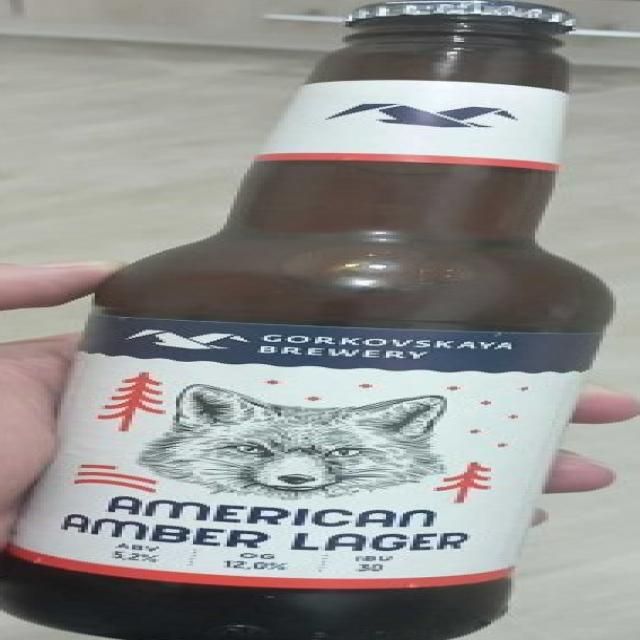Gorkovskaya Brewery American Amber Lager: (3, 0, 640, 640)
